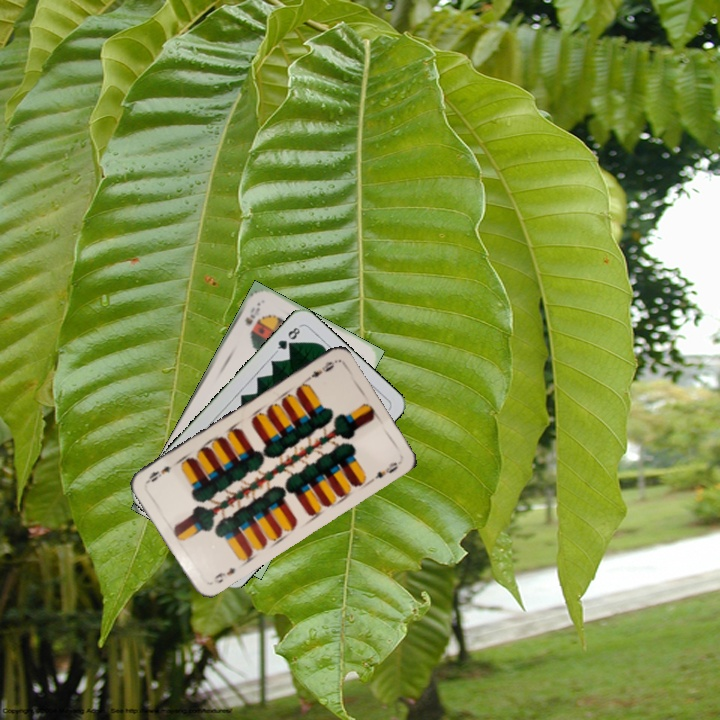E9: (301, 357, 338, 384), (209, 563, 238, 586)
G8: (272, 322, 303, 355)
SO: (241, 303, 262, 328)
